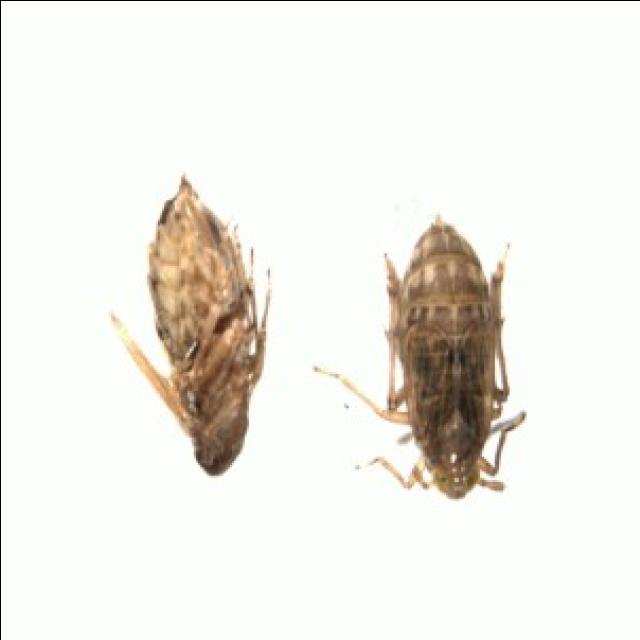brown plant hopper: (312, 220, 526, 515), (123, 180, 267, 475)
